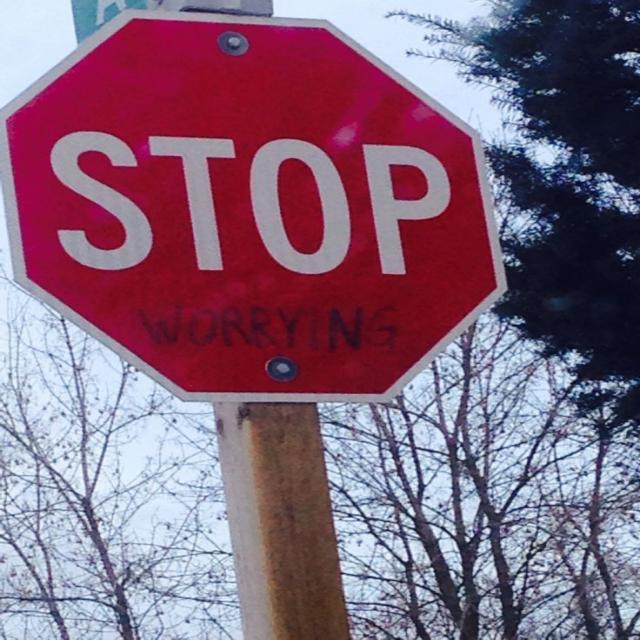stop: (0, 6, 509, 405)
